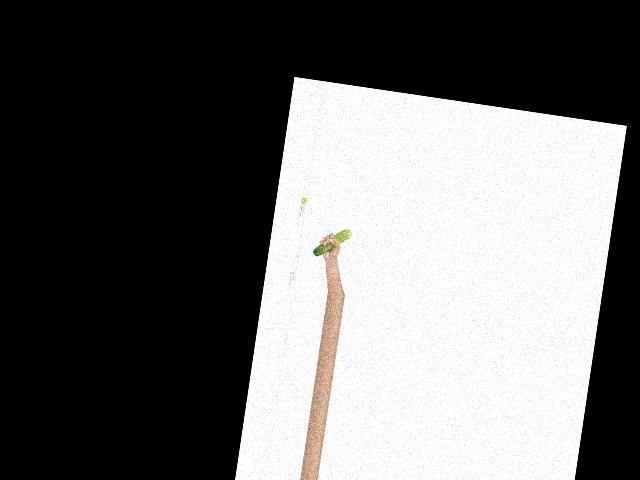cucumber: (312, 225, 351, 261)
